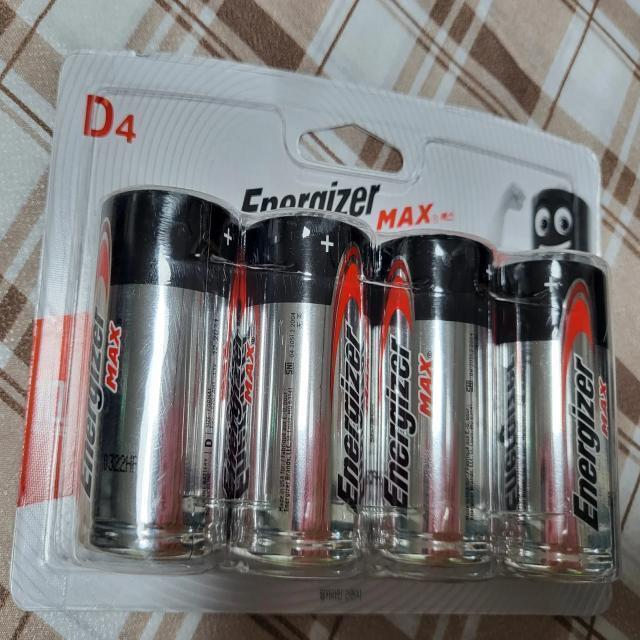Hazard: (74, 188, 241, 562), (228, 211, 374, 568), (370, 234, 496, 565), (496, 259, 621, 577)
